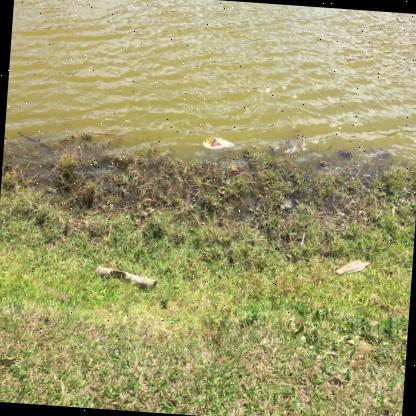Single-use carrier bag: (203, 137, 234, 151)
